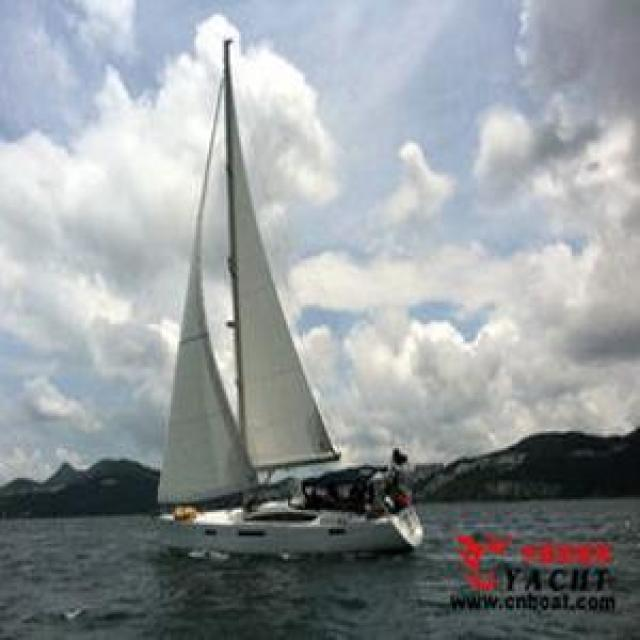sailboat: (134, 36, 426, 556)
